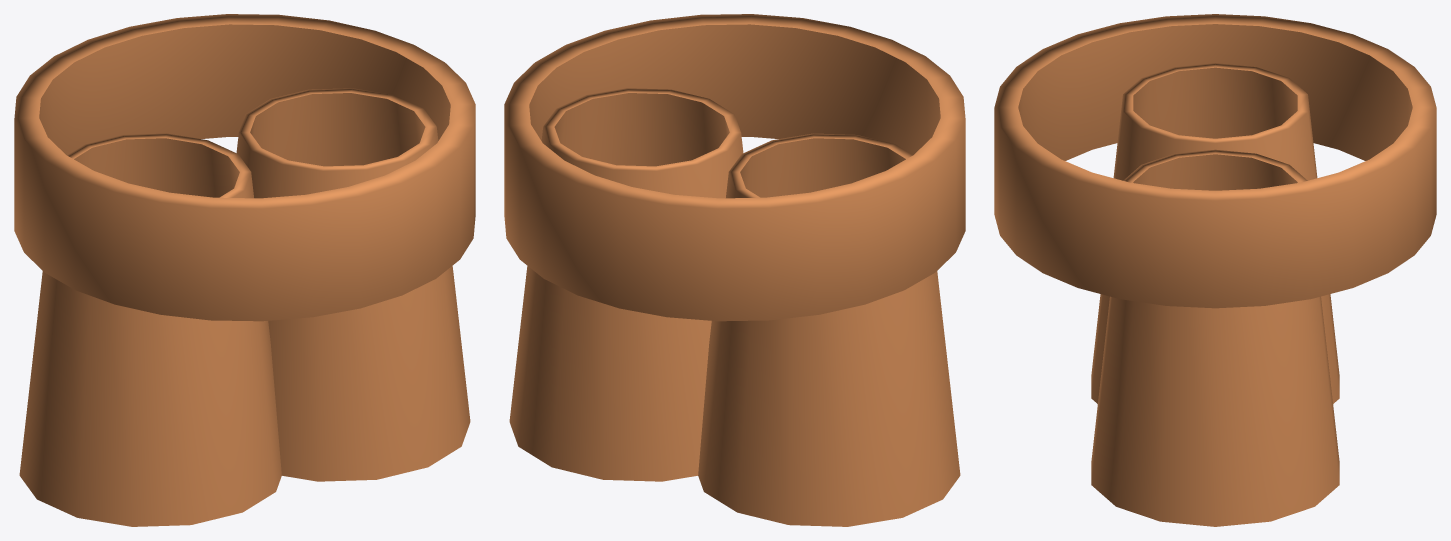
Rendered from bell_bottoms.glb.
3 renders of one model, left to right at view 1: azimuth 30°, elevation 25°; view 2: azimuth 150°, elevation 25°; view 3: azimuth 270°, elevation 25°, orthographic. The views are drawn at different scales.
Parts seen in each view (by area): view 1: bell_bottoms_Body, bell_bottoms_LegL, bell_bottoms_LegR; view 2: bell_bottoms_Body, bell_bottoms_LegL, bell_bottoms_LegR; view 3: bell_bottoms_Body, bell_bottoms_LegR, bell_bottoms_LegL.
Boxes of the visible parts, x1,y1,x2,y2 form: bell_bottoms_Body: (14,14,475,321); bell_bottoms_LegL: (19,133,281,526); bell_bottoms_LegR: (236,88,470,481); bell_bottoms_Body: (504,14,965,321); bell_bottoms_LegL: (698,133,960,526); bell_bottoms_LegR: (509,88,743,481); bell_bottoms_Body: (994,14,1436,308); bell_bottoms_LegR: (1091,149,1339,526); bell_bottoms_LegL: (1091,63,1339,403).
Size of the model in its own units: 0.426 by 0.33 by 0.41.
